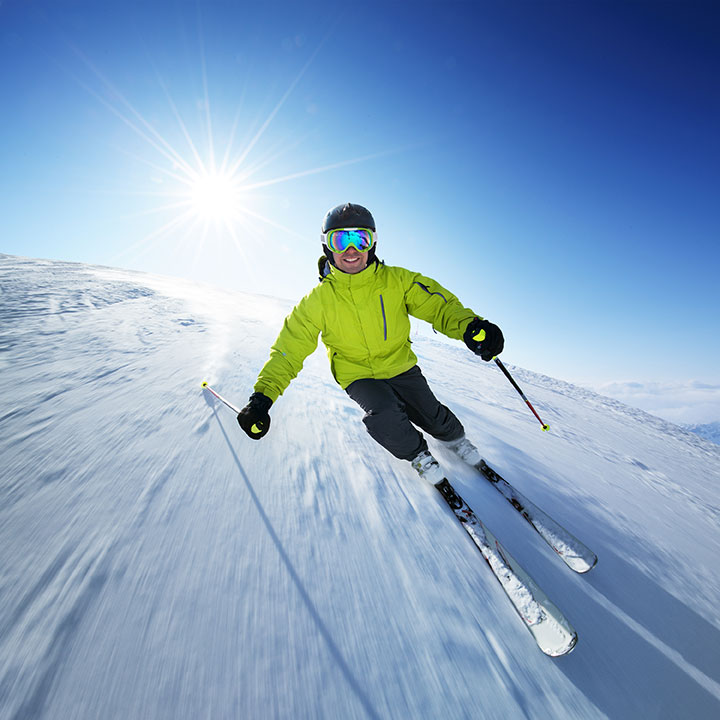skier: (199, 198, 605, 664)
